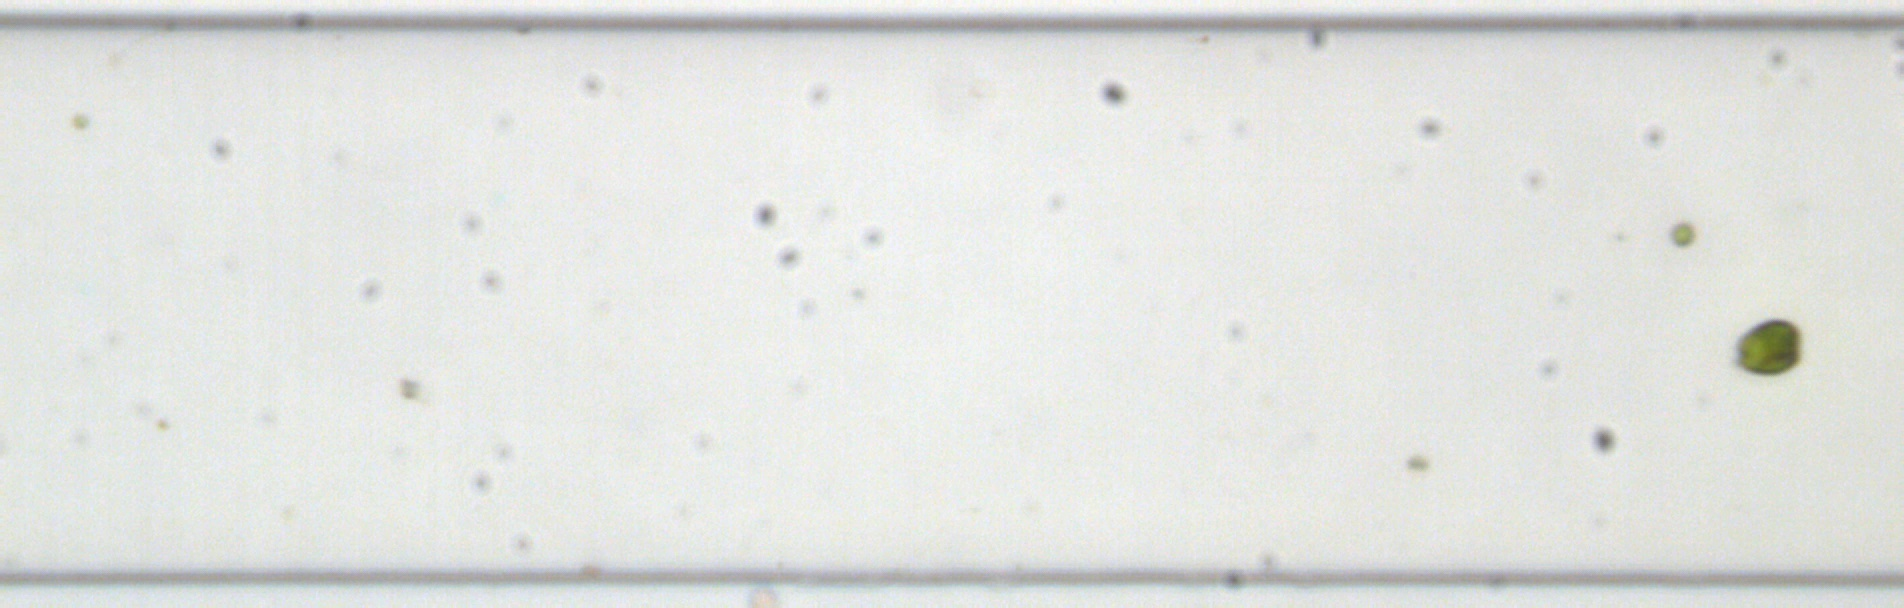Chlorella: (1668, 220, 1698, 246), (1405, 453, 1430, 471), (398, 379, 419, 399), (153, 415, 171, 434), (70, 113, 89, 130)
Platymonas: (1730, 316, 1803, 376)
